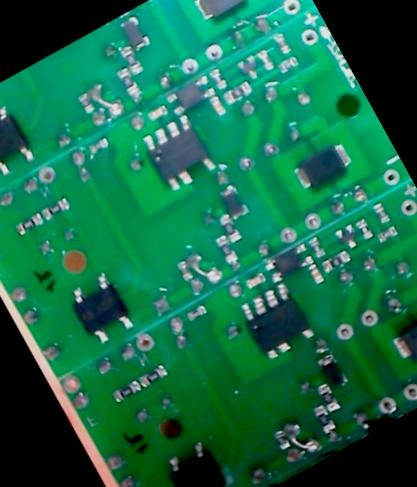chip-capacitor: (144, 100, 169, 123), (206, 92, 228, 118), (242, 270, 267, 291), (305, 262, 324, 285)
chip-resistor: (219, 76, 254, 105), (37, 192, 72, 221), (313, 379, 342, 414), (215, 209, 243, 245), (10, 209, 44, 238), (318, 246, 352, 275), (134, 360, 168, 389), (108, 377, 142, 406), (308, 402, 336, 435), (112, 64, 139, 97), (212, 231, 239, 264), (118, 43, 144, 76), (351, 214, 374, 242), (73, 89, 96, 115), (206, 64, 229, 90), (85, 133, 111, 156), (373, 221, 399, 244), (304, 233, 327, 259), (270, 30, 293, 55), (275, 52, 300, 75), (369, 199, 391, 225), (183, 300, 208, 322), (254, 46, 275, 72), (270, 426, 291, 451), (173, 257, 193, 282)
diode: (287, 137, 356, 196), (387, 306, 417, 368), (187, 0, 258, 25), (115, 11, 152, 53), (215, 180, 251, 222), (314, 349, 350, 391)
ic: (231, 275, 317, 365), (135, 110, 218, 197), (61, 268, 137, 350), (159, 437, 233, 487), (0, 99, 39, 183), (162, 71, 217, 117), (260, 239, 315, 285)
transistor: (232, 49, 264, 83), (330, 220, 362, 253)
